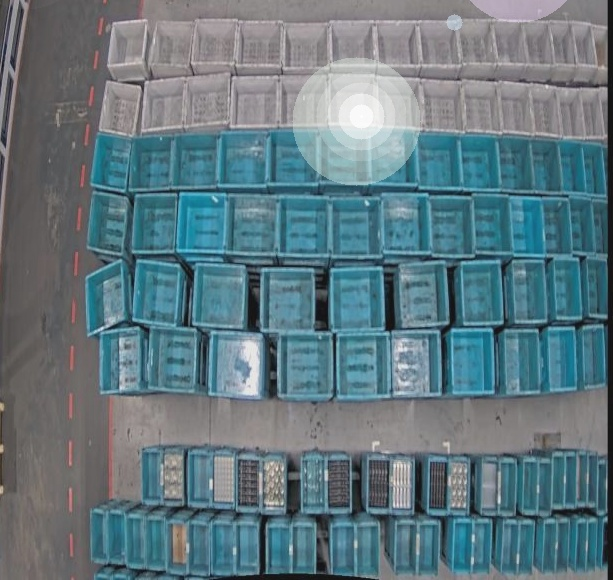Box: (190, 262, 248, 330), (329, 264, 386, 330), (276, 332, 332, 398), (207, 331, 263, 397), (337, 330, 390, 399), (396, 260, 448, 330), (148, 322, 199, 393), (260, 267, 314, 333), (131, 260, 183, 327), (84, 258, 127, 339), (97, 325, 146, 395), (129, 189, 178, 259), (226, 193, 278, 258), (329, 197, 384, 258), (175, 192, 228, 255), (318, 126, 369, 191), (277, 197, 331, 258), (392, 330, 441, 396), (267, 127, 319, 188), (126, 133, 176, 195), (383, 192, 430, 257), (139, 77, 188, 139), (85, 191, 130, 258), (428, 194, 474, 258), (184, 71, 230, 135), (368, 130, 417, 190), (219, 129, 268, 189), (172, 132, 221, 192), (458, 260, 503, 325), (451, 327, 494, 395), (190, 17, 239, 75), (230, 76, 280, 132), (88, 132, 132, 195), (147, 17, 193, 77), (329, 72, 377, 129), (417, 130, 462, 190), (471, 194, 513, 258), (236, 17, 282, 75), (97, 80, 142, 139), (281, 17, 329, 72), (280, 72, 327, 128), (375, 17, 419, 75), (378, 76, 422, 133), (330, 16, 376, 69), (418, 18, 460, 76), (502, 330, 539, 395), (109, 20, 148, 81), (458, 17, 496, 79), (422, 77, 463, 133), (510, 259, 546, 322), (460, 82, 501, 135), (496, 82, 536, 135), (510, 197, 544, 259), (460, 135, 498, 189), (550, 257, 582, 321), (498, 136, 534, 191), (494, 19, 526, 79), (523, 21, 554, 82), (546, 327, 575, 391), (530, 84, 562, 139), (580, 324, 606, 391), (531, 137, 562, 193), (161, 441, 187, 505), (187, 446, 212, 510), (544, 197, 572, 254), (552, 20, 578, 81), (559, 137, 587, 193), (261, 452, 286, 514), (572, 22, 597, 82), (326, 452, 350, 514), (234, 520, 260, 577), (570, 198, 596, 254), (390, 456, 415, 514), (366, 452, 391, 510), (300, 453, 324, 513), (578, 86, 604, 141), (427, 453, 450, 514), (557, 87, 585, 137), (212, 448, 235, 508), (141, 447, 164, 507), (394, 520, 420, 573), (290, 522, 317, 573), (356, 522, 380, 579), (586, 255, 608, 317), (235, 453, 258, 512), (449, 455, 471, 515), (211, 520, 234, 577), (496, 456, 517, 518), (331, 520, 355, 574), (266, 523, 290, 574), (188, 521, 210, 576), (452, 519, 474, 573), (418, 521, 440, 575), (166, 520, 188, 574), (584, 143, 606, 197), (478, 455, 498, 514), (472, 519, 493, 574), (146, 516, 166, 570), (516, 520, 535, 576), (501, 519, 519, 575), (88, 508, 106, 564), (108, 509, 126, 563), (126, 514, 144, 567), (541, 517, 558, 573), (536, 455, 551, 517), (554, 518, 570, 576), (592, 199, 608, 256), (550, 449, 565, 509), (592, 25, 607, 85), (521, 457, 536, 515), (594, 454, 608, 514), (574, 519, 588, 574), (574, 449, 586, 509), (585, 517, 598, 572), (564, 449, 575, 509), (584, 451, 596, 504), (599, 516, 608, 569)
